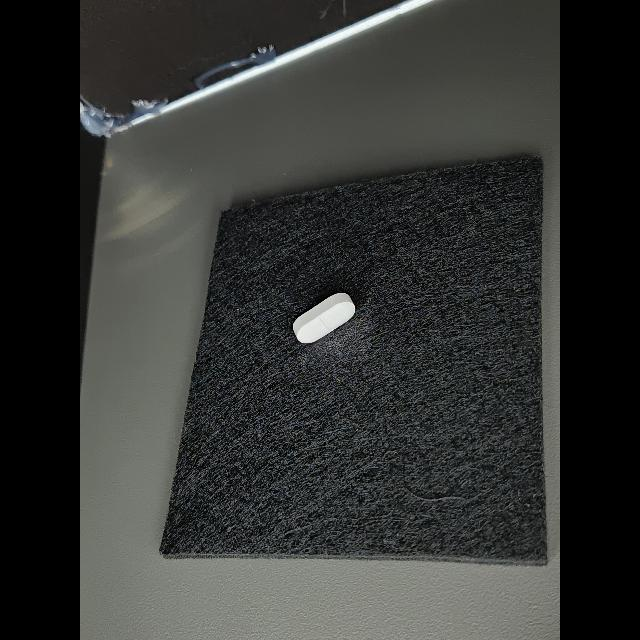Intact Pill: (293, 293, 355, 343)
